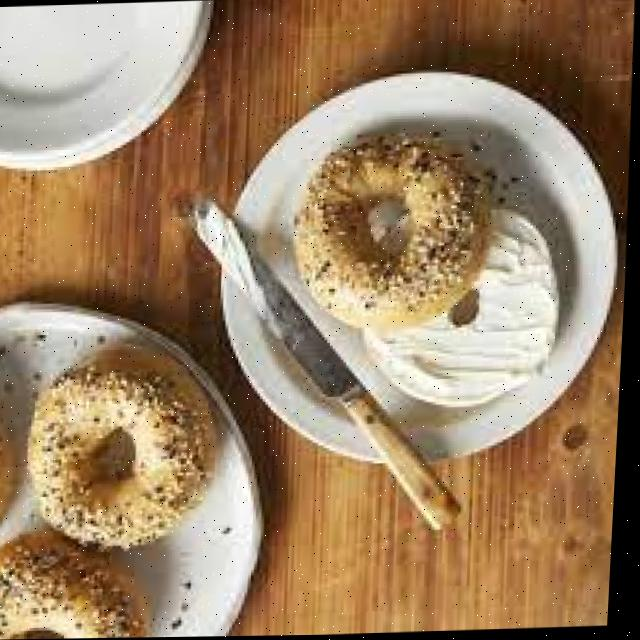Bagel: (366, 208, 562, 408), (297, 136, 491, 325), (32, 350, 219, 542), (0, 531, 154, 640)
